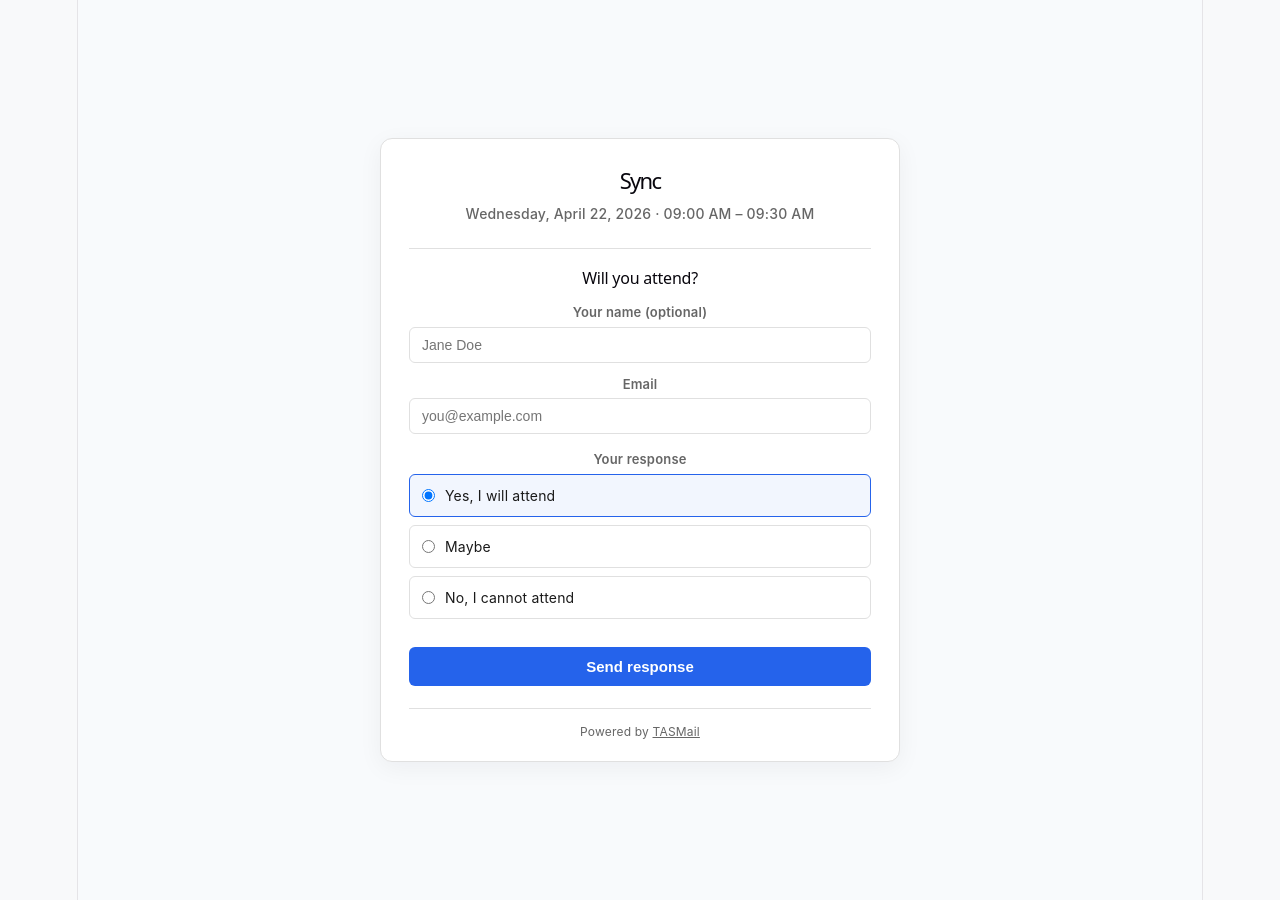
Test: BookingPage › submits the RSVP with the correct payload and shows confirmation
This screenshot has width=1280, height=900.
Expected: the heading "Sync" is shown, [620,165,660,195]
Type "Jane" into the field with placeholder "Jane Doe" at [640, 345], box [409,327,871,363]
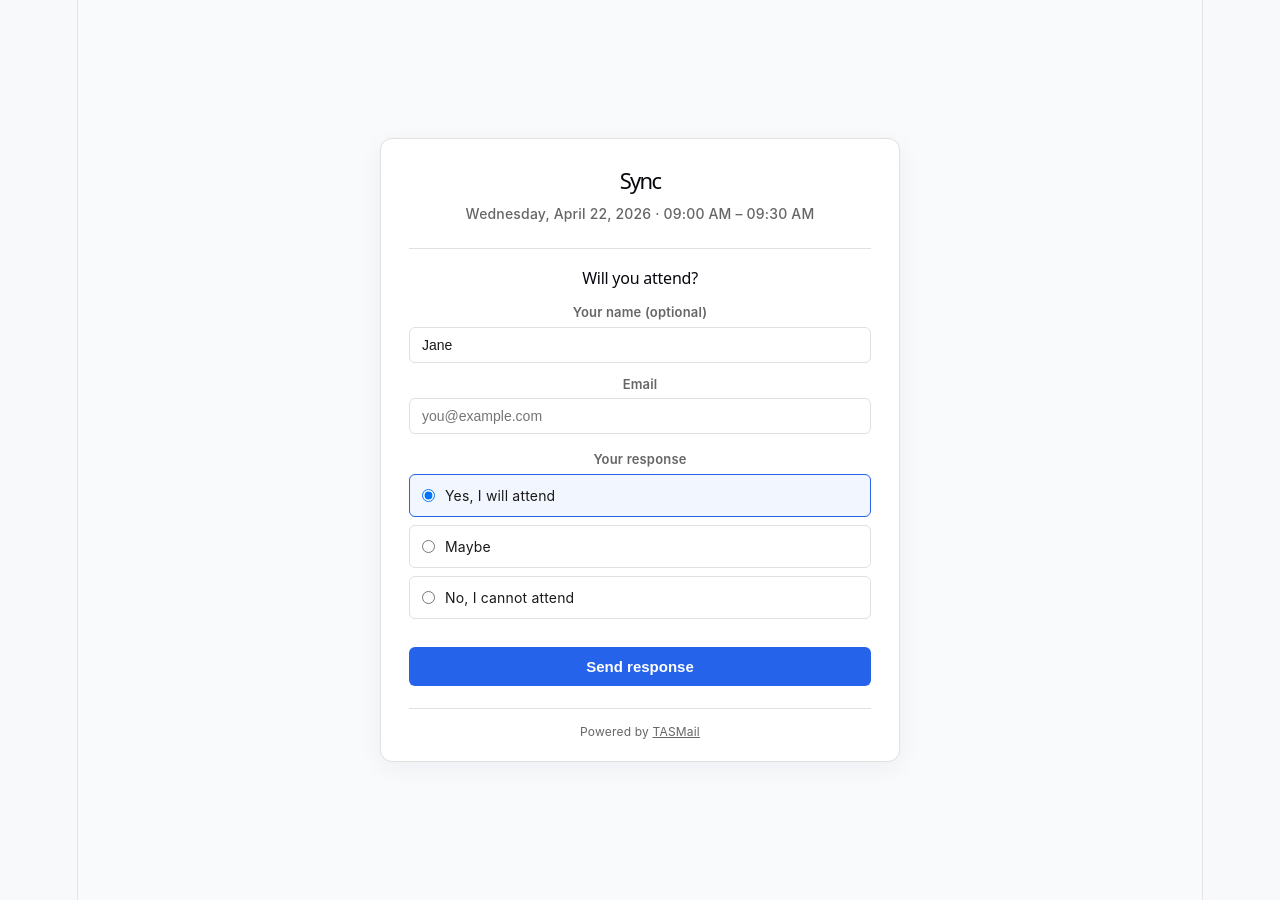
Type "Jane@Example.COM" into the field with placeholder "you@example.com" at [640, 416], box [409,398,871,434]
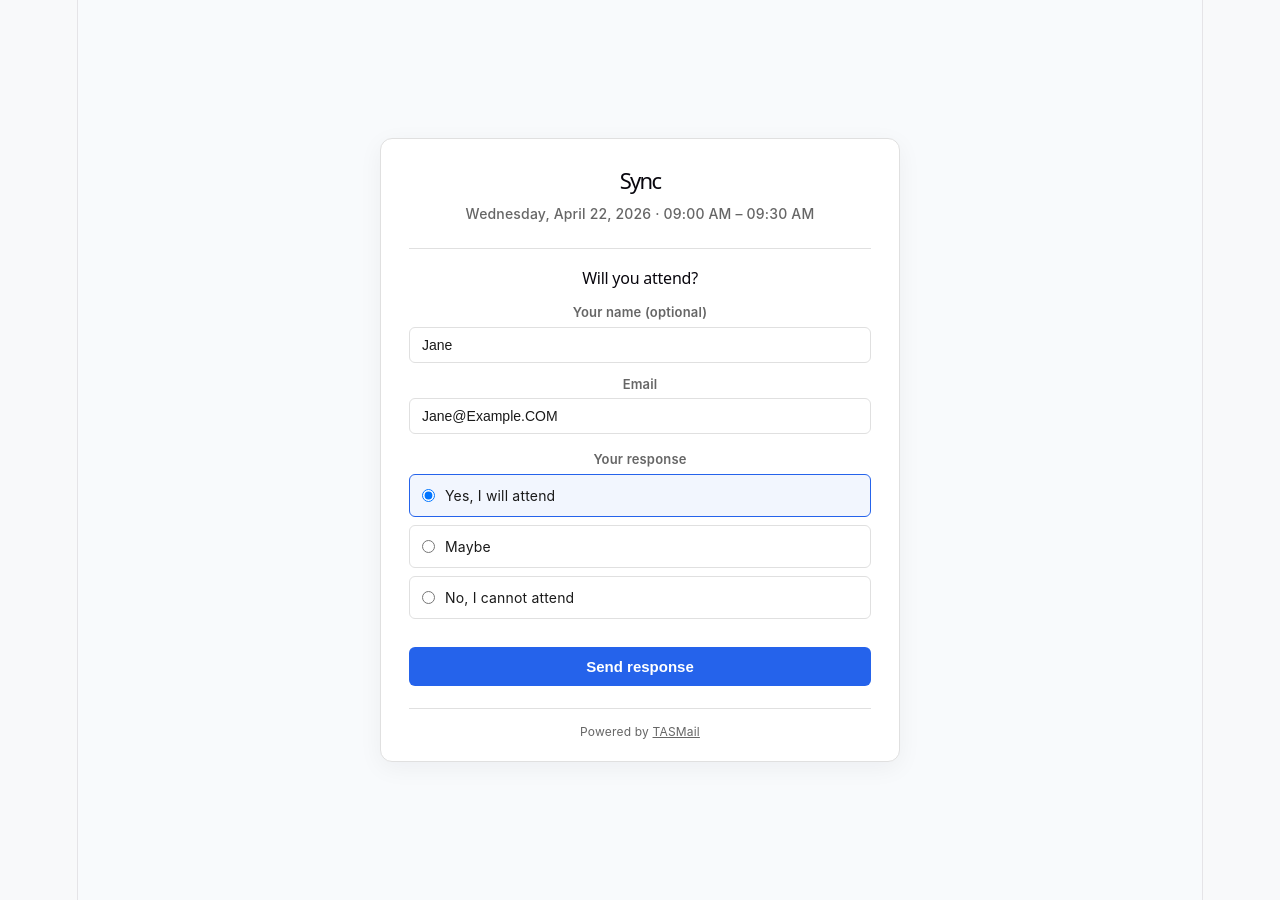
Click the button "Send response" at [640, 666], box [409,647,871,686]
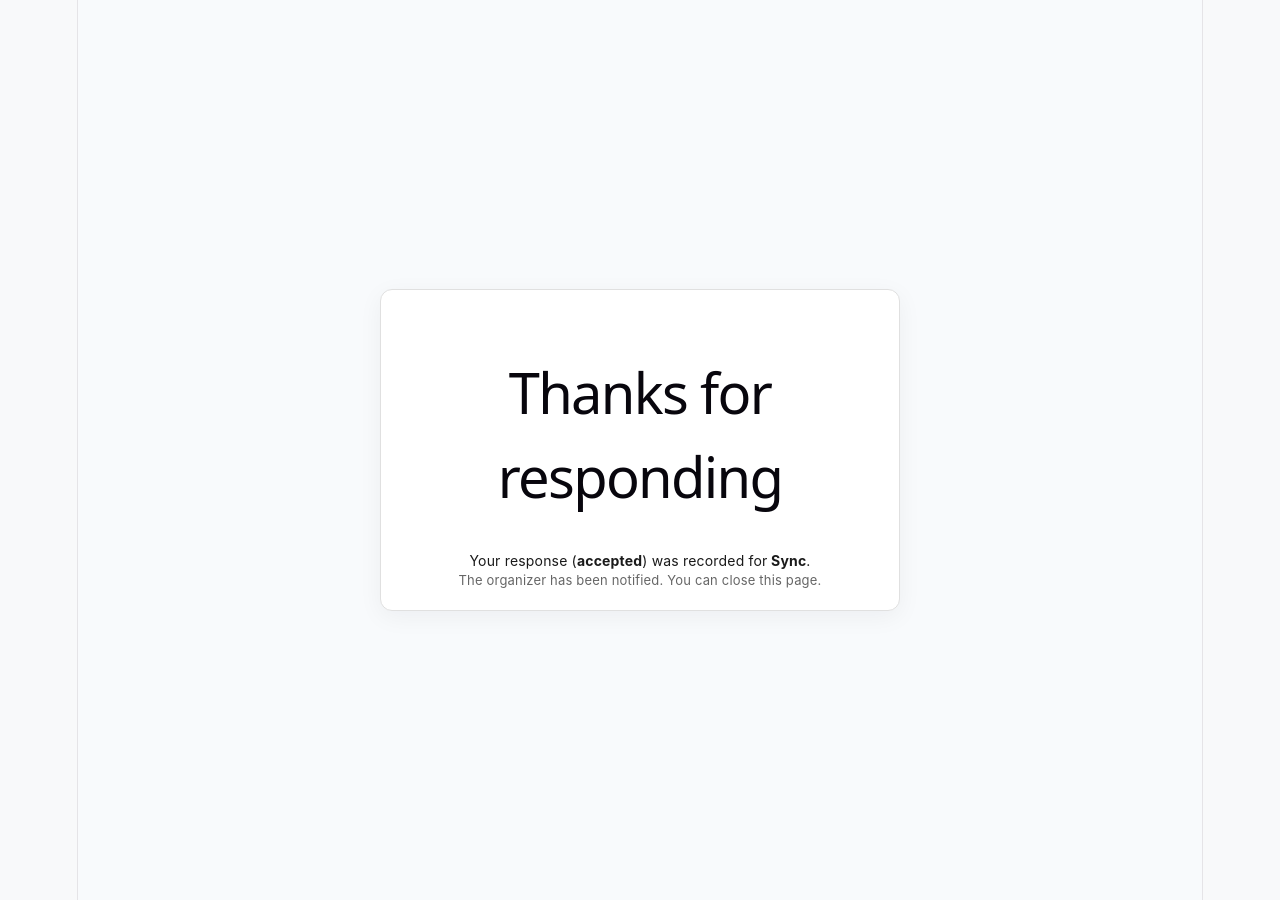
Expected: the heading "Thanks for responding" is shown, [498,354,782,514]
Expected: the text "accepted" is shown, [577,552,642,569]
